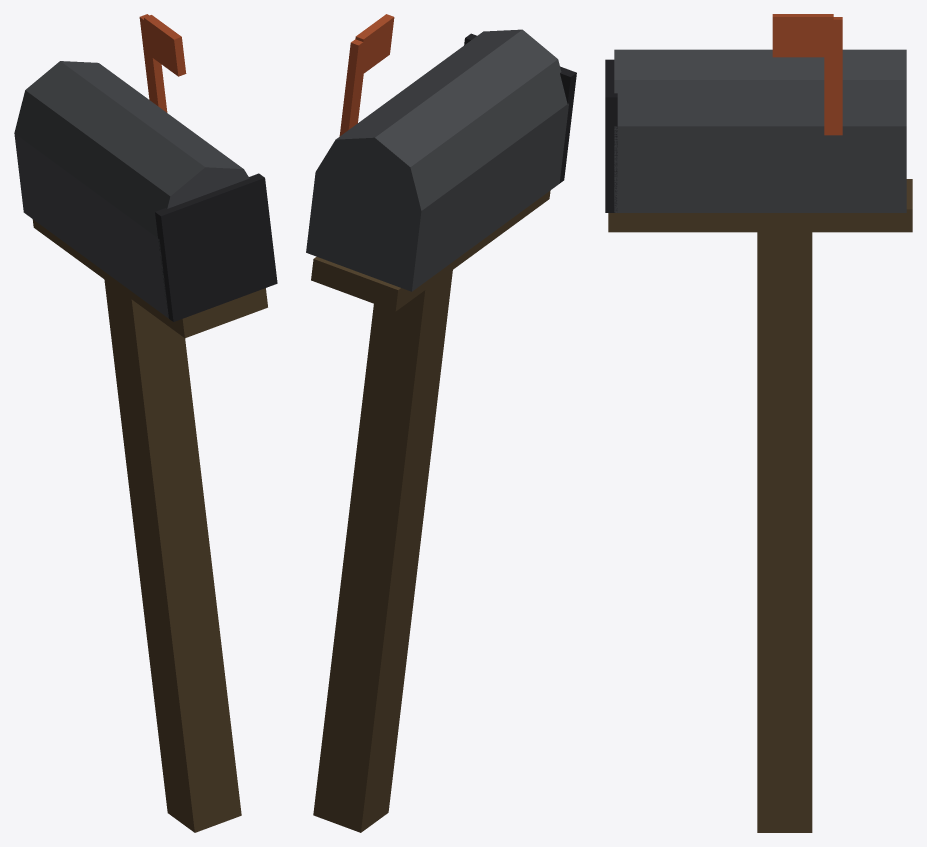
The model's file is drowned_mailbox.glb.
3 views of the same model, side by side, from view 1: azimuth 30°, elevation 25°; view 2: azimuth 150°, elevation 25°; view 3: azimuth 270°, elevation 25° (orthographic).
Visible parts, largest first — view 1: drowned_mailbox; view 2: drowned_mailbox; view 3: drowned_mailbox.
Boxes of the visible parts, x1=… form: drowned_mailbox: x1=14, y1=14, x2=277, y2=832; drowned_mailbox: x1=306, y1=14, x2=576, y2=832; drowned_mailbox: x1=605, y1=14, x2=912, y2=832.
Size of the model in its own units: 0.2984 by 1.44 by 0.505.
